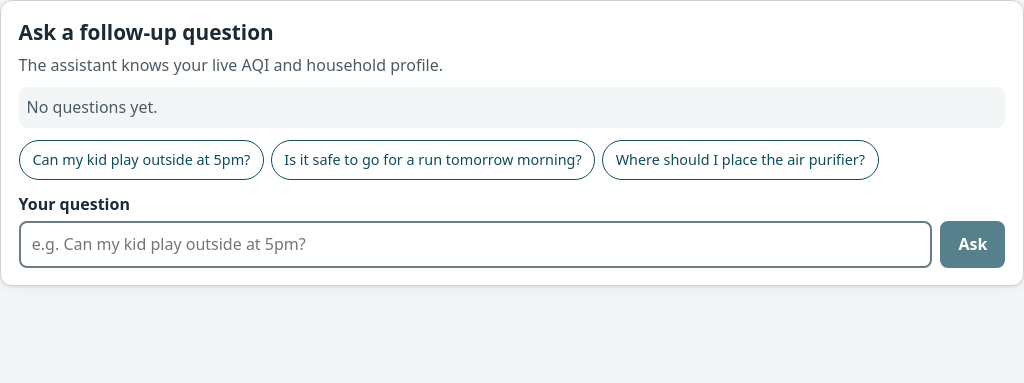
Test case: Chat › shows a network error
The image size is (1024, 383).
Type "Is it safe?" into the field labelled "Your question" at (476, 245), box [19, 221, 932, 268]
Then press Enter
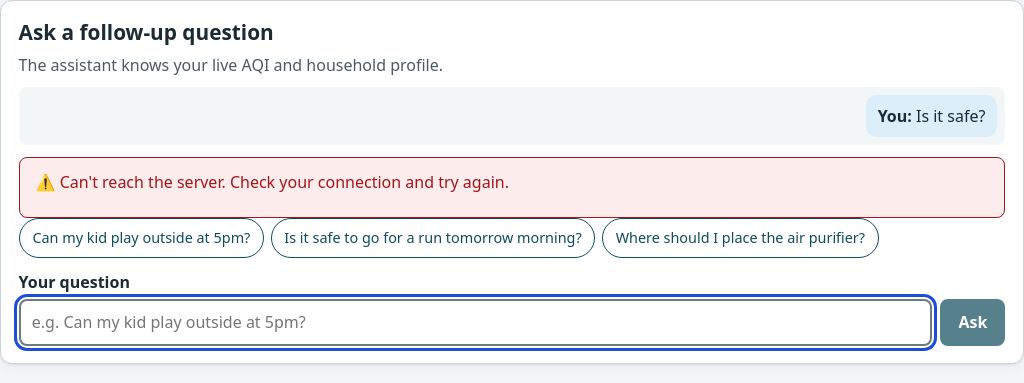
Now the message shows "Can't reach the server", box [60, 171, 509, 193]
